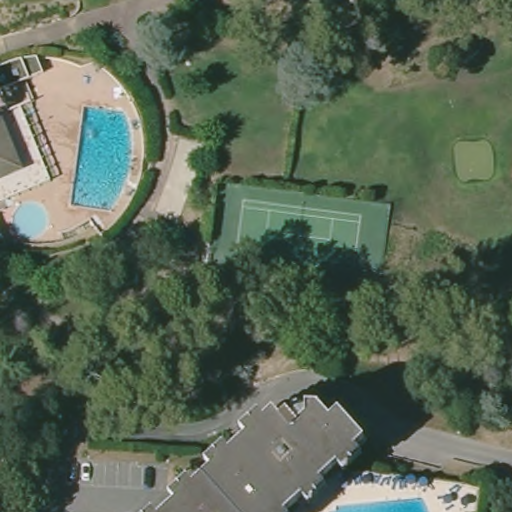pool: (70, 102, 135, 214), (11, 198, 53, 240), (332, 494, 430, 512)
